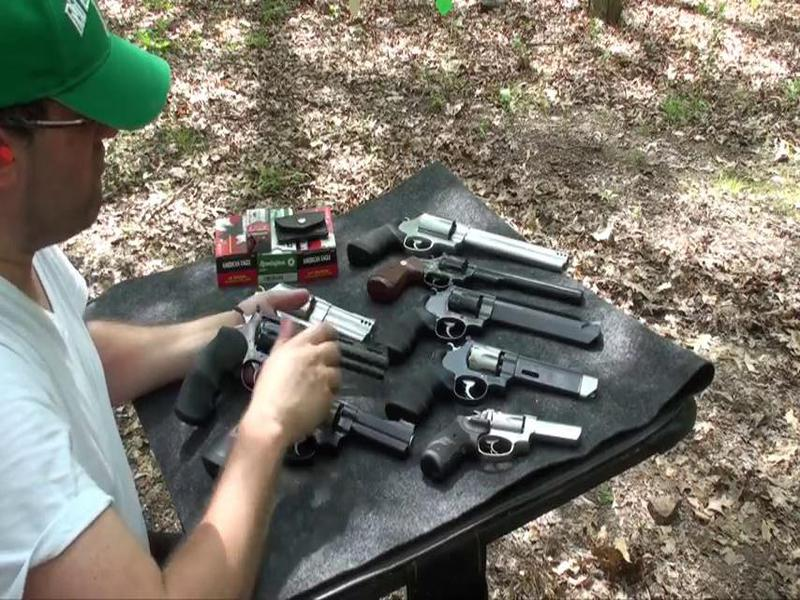Revolver: (170, 299, 387, 434)
